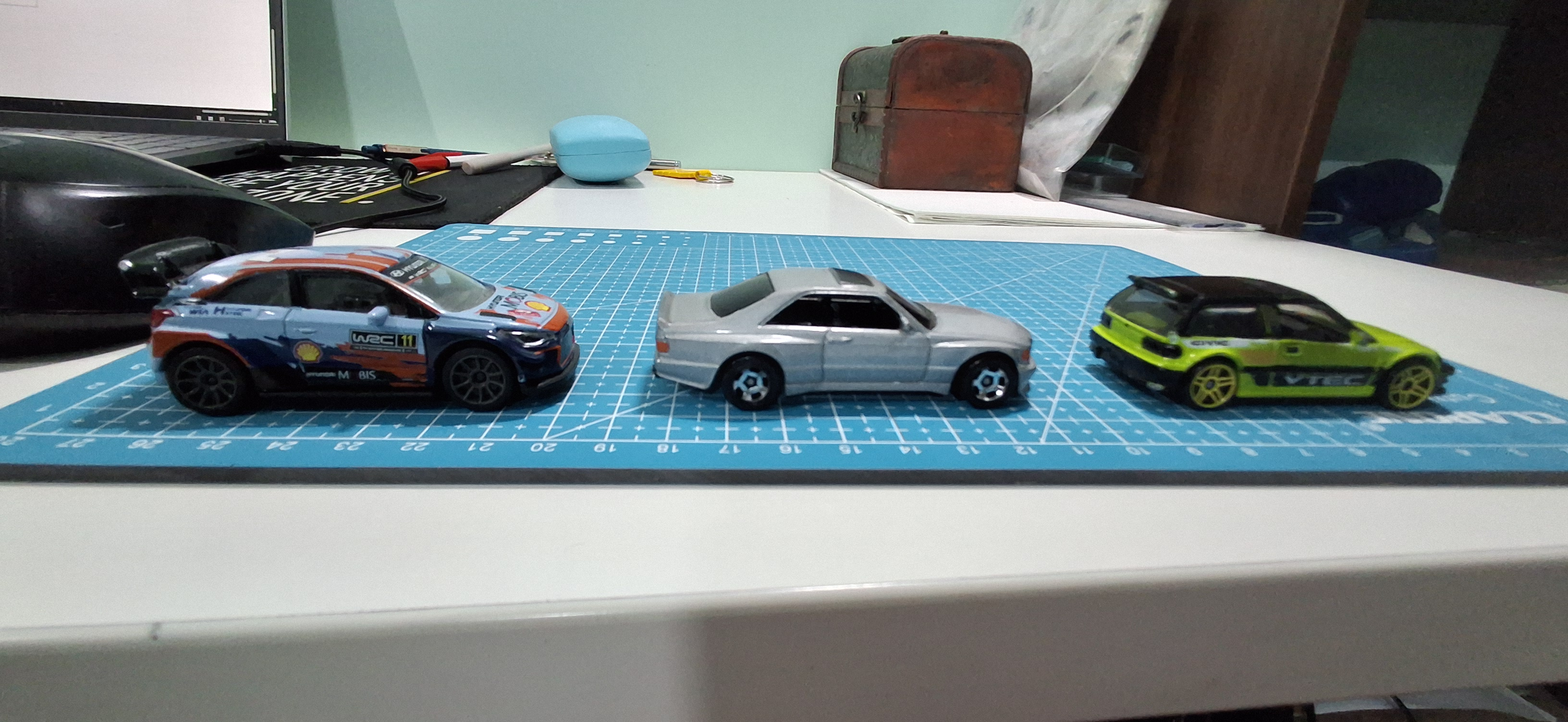Honda_Civic: (1067, 202, 1480, 450)
Hyundai_I20_WRC: (92, 210, 581, 439)
Mercedes_Benz_560_SEC_AMG: (618, 201, 1042, 442)
